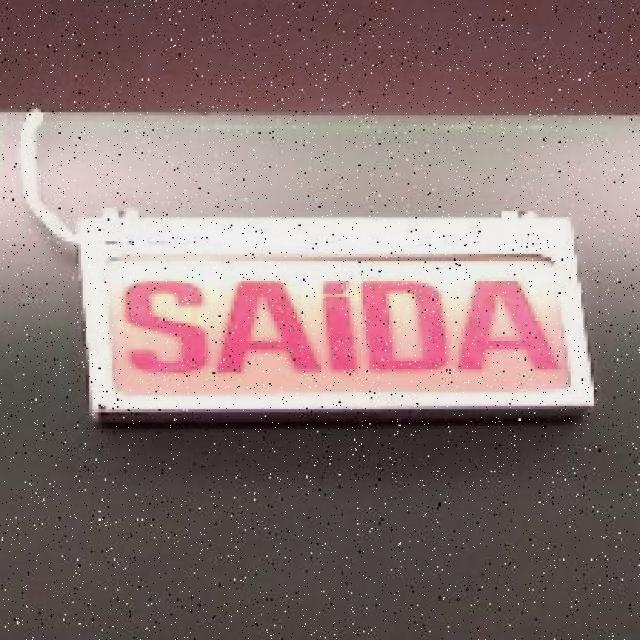emergency_exit: (78, 211, 595, 422)
